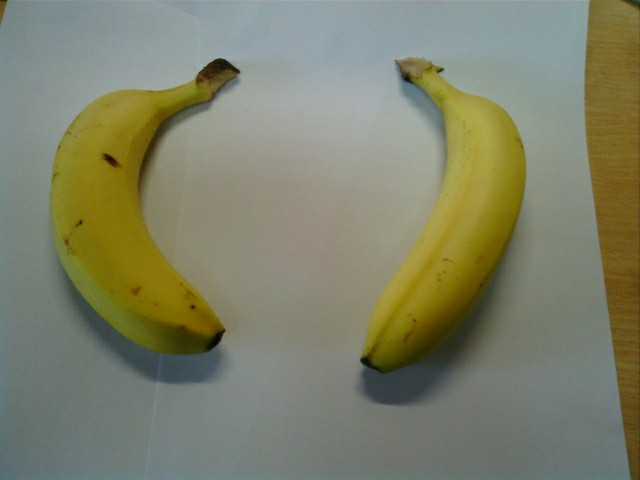fresh_banana: (359, 57, 527, 373)
normal_banana: (51, 76, 222, 354)
